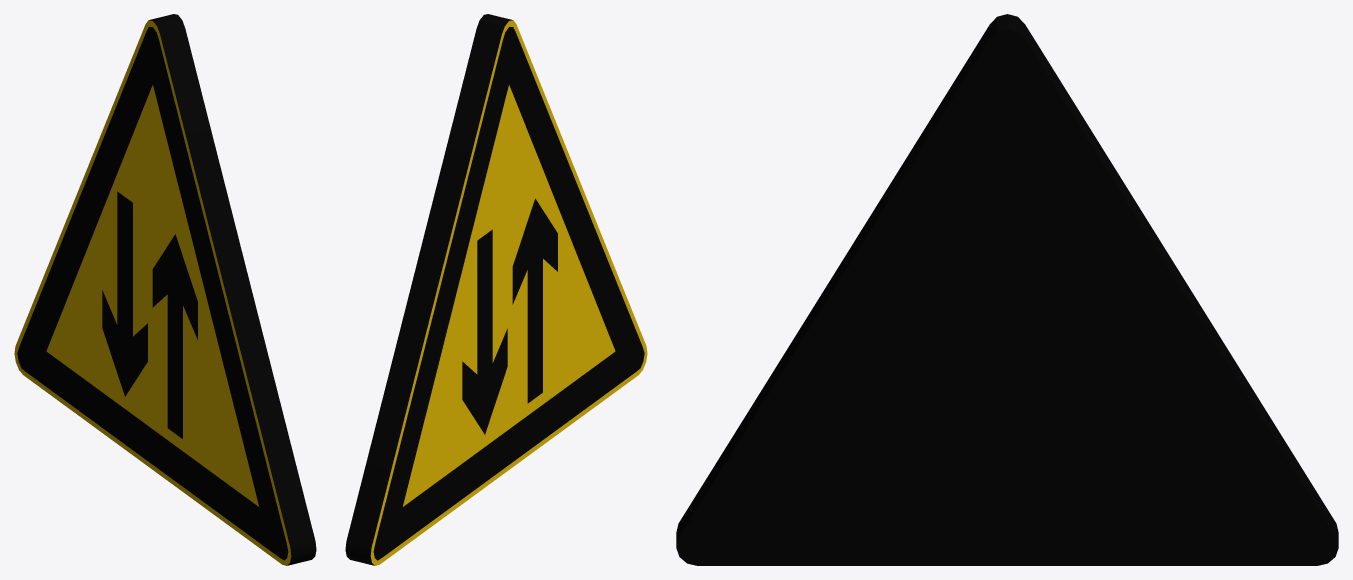
Rendered from Bilateral_Traffic.fbx.
3 views of the same model, side by side, from view 1: azimuth 30°, elevation 25°; view 2: azimuth 150°, elevation 25°; view 3: azimuth 270°, elevation 25° (orthographic). The views are drawn at different scales.
Visible parts, largest first — view 1: Bilateral_Traffic; view 2: Bilateral_Traffic; view 3: Bilateral_Traffic.
Boxes of the visible parts, x1=… form: Bilateral_Traffic: x1=14, y1=14, x2=316, y2=565; Bilateral_Traffic: x1=345, y1=14, x2=647, y2=565; Bilateral_Traffic: x1=676, y1=14, x2=1338, y2=565.
Size of the model in its own units: 0.0643 by 1.02 by 1.14.
